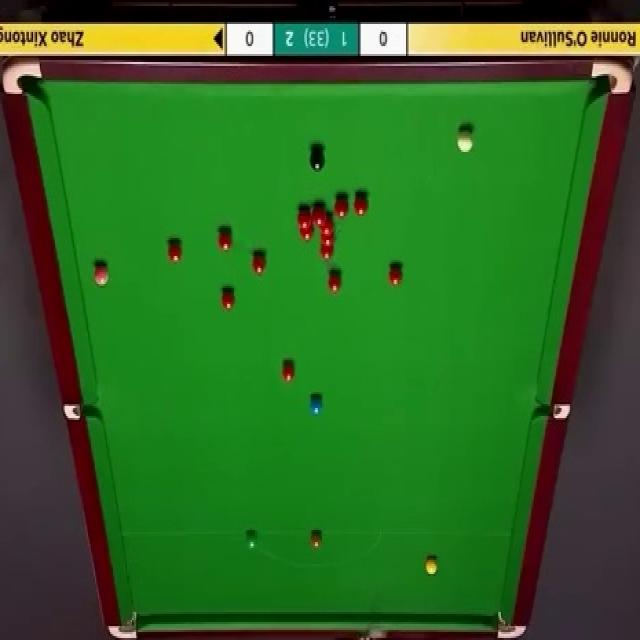black-ball: (309, 144, 325, 174)
blue-ball: (308, 394, 324, 416)
brown-ball: (310, 530, 323, 550)
green-ball: (245, 531, 258, 550)
pink-ball: (93, 262, 109, 288)
red-ball: (333, 192, 350, 220), (387, 261, 404, 288), (167, 240, 184, 263), (281, 360, 297, 384), (354, 194, 370, 218), (297, 205, 312, 230), (251, 251, 266, 275), (220, 288, 235, 312), (321, 218, 336, 239), (327, 273, 342, 294), (312, 205, 326, 227), (218, 232, 234, 250), (320, 232, 334, 248), (318, 248, 334, 260), (300, 227, 314, 240)
white-ball: (457, 125, 474, 154)
yellow-ball: (424, 554, 437, 575)
